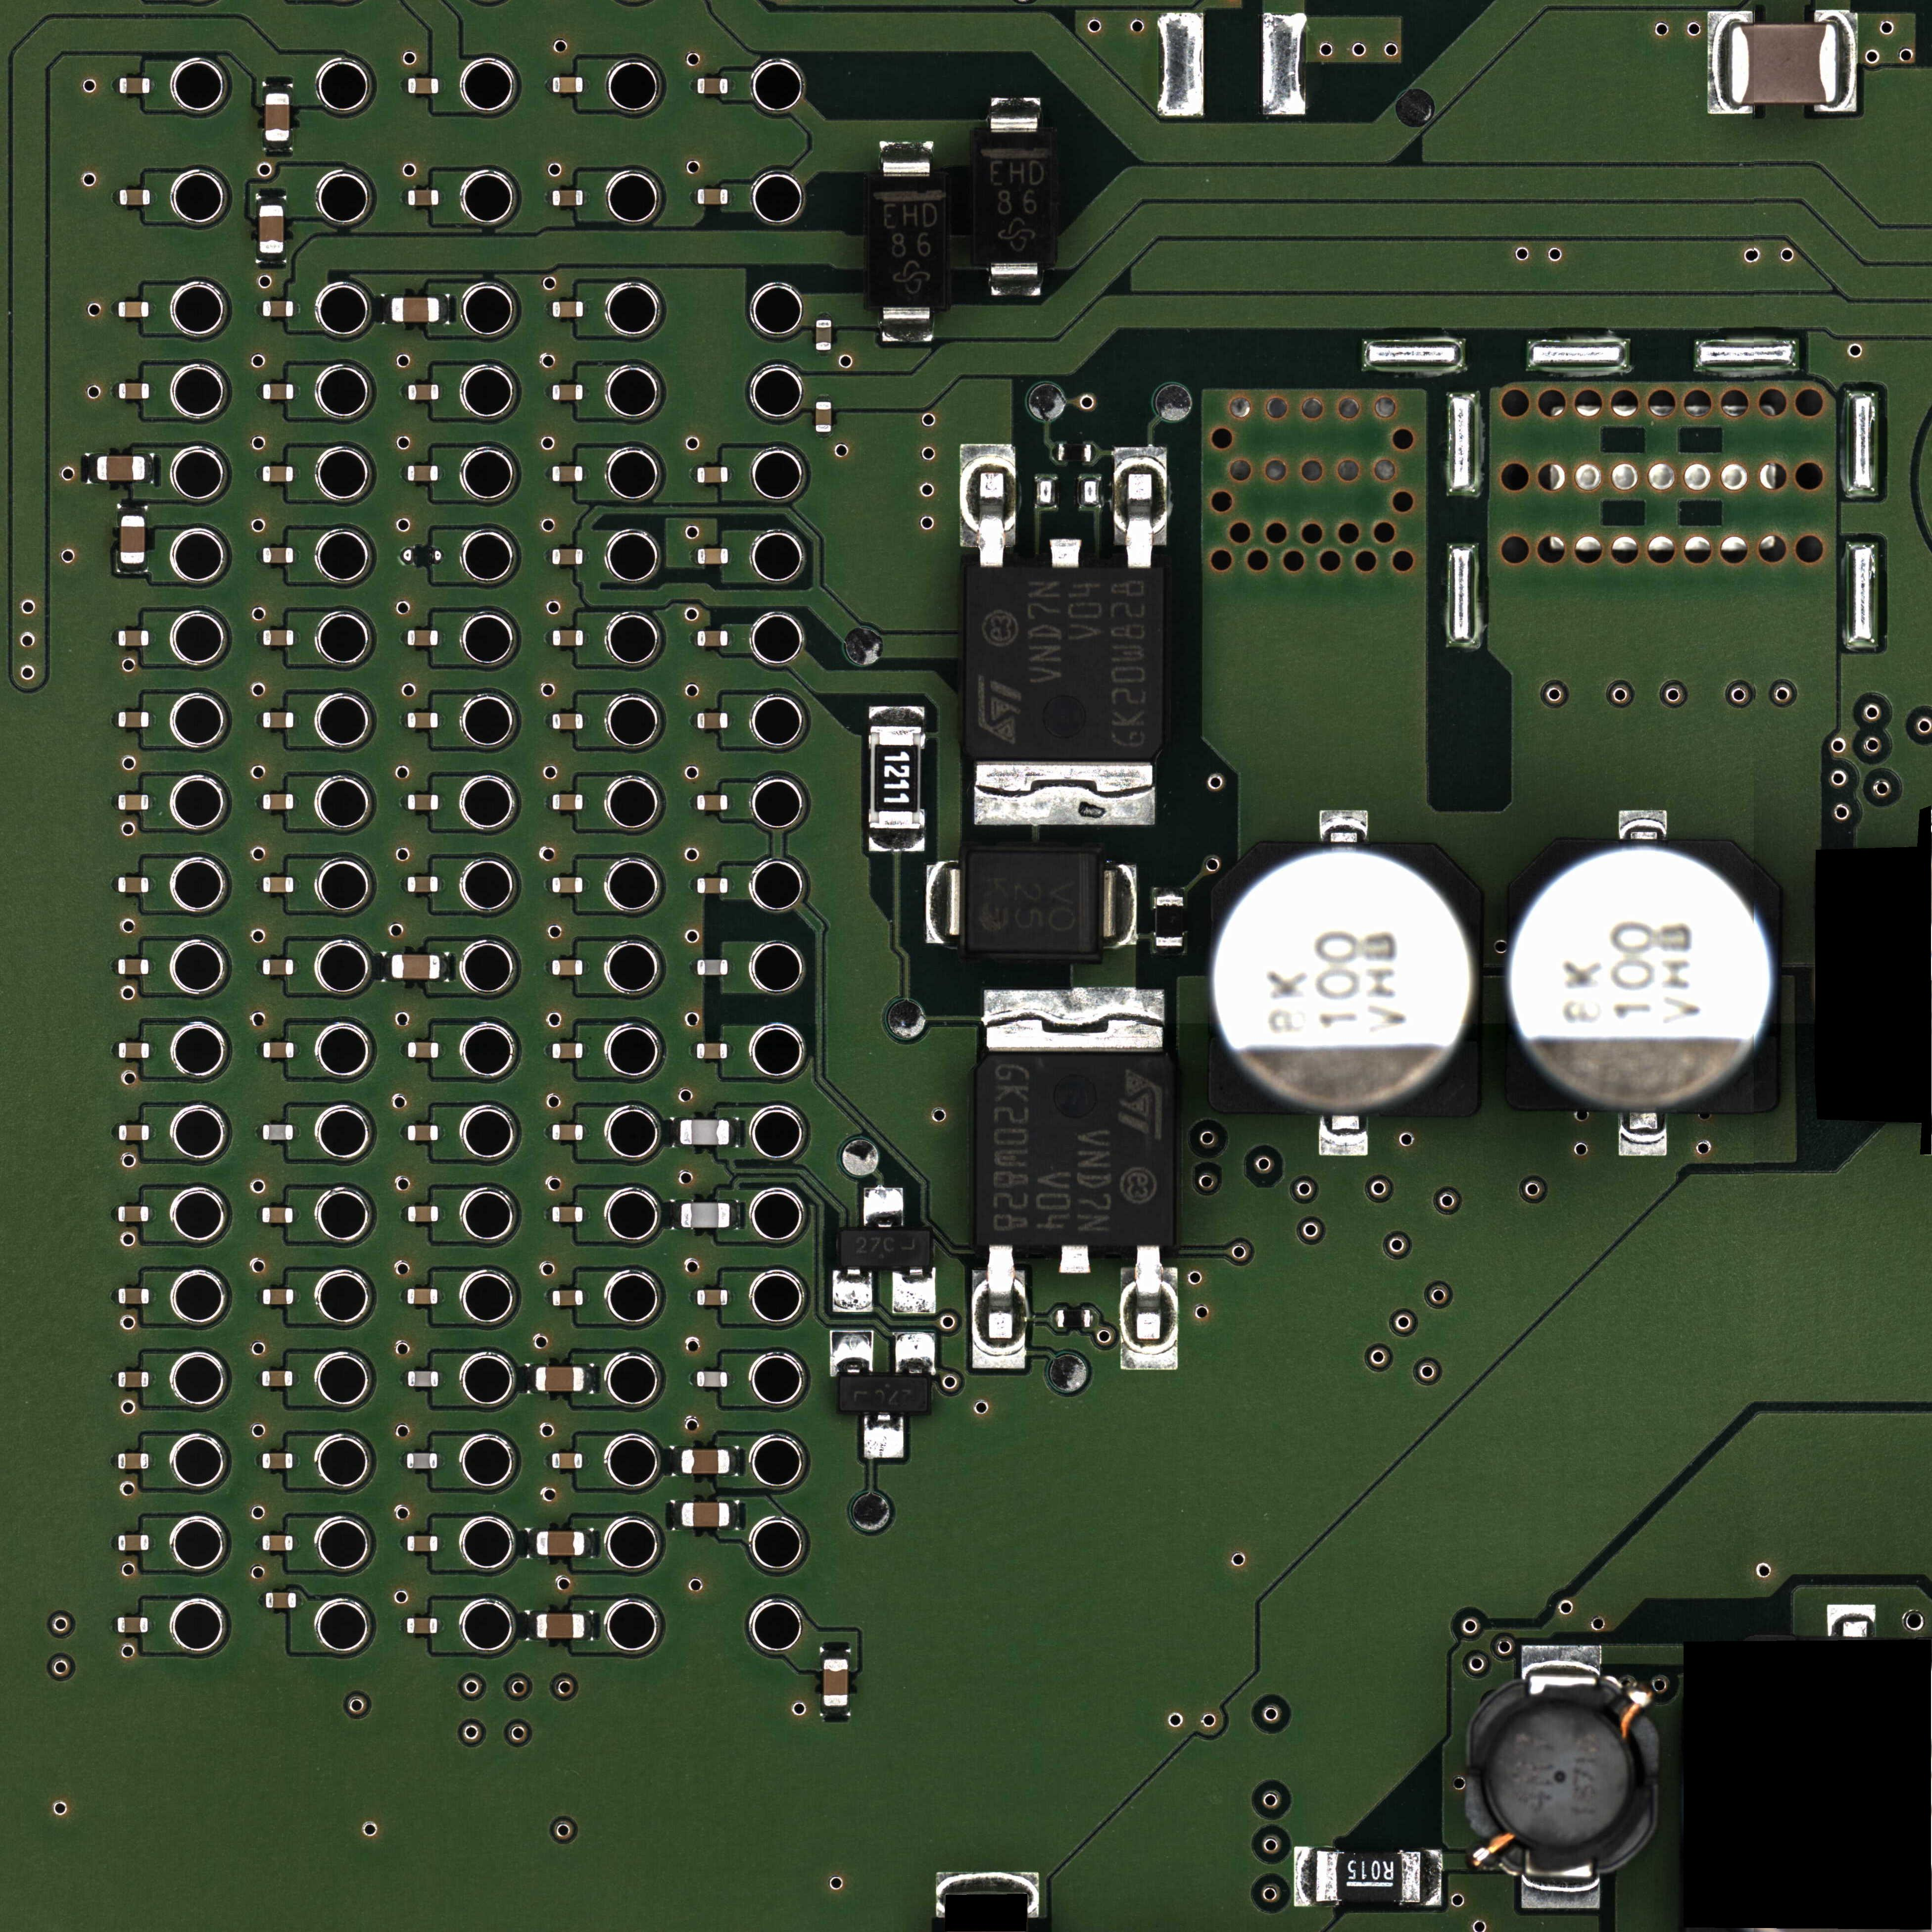Package: (1204, 841, 1482, 1116), (1503, 839, 1781, 1113), (965, 567, 1164, 763), (975, 1049, 1172, 1246), (1468, 1685, 1660, 1867), (967, 850, 1098, 953), (975, 130, 1054, 261), (868, 178, 946, 308), (1732, 24, 1836, 103), (869, 726, 922, 829), (1316, 1852, 1421, 1902), (838, 1227, 932, 1268), (838, 1374, 930, 1413), (1156, 896, 1183, 946), (680, 1119, 729, 1145), (681, 1203, 730, 1228), (97, 456, 145, 481), (536, 1613, 584, 1639), (681, 1449, 729, 1474), (391, 955, 440, 979), (391, 297, 439, 322), (120, 516, 145, 564), (535, 1367, 584, 1391), (681, 1502, 729, 1527), (259, 205, 284, 253), (536, 1531, 584, 1555), (265, 93, 290, 141), (824, 1659, 848, 1706), (1058, 1309, 1090, 1328), (1059, 444, 1091, 462), (262, 466, 293, 482), (552, 1207, 583, 1222), (407, 630, 438, 646), (552, 630, 583, 646), (697, 78, 728, 94), (263, 712, 293, 728), (118, 712, 149, 727), (119, 78, 150, 94), (697, 630, 728, 646), (697, 548, 728, 564), (263, 1042, 294, 1058), (552, 301, 583, 317), (118, 301, 149, 317), (119, 190, 150, 205), (263, 301, 293, 317), (407, 876, 438, 892), (552, 549, 583, 565), (697, 878, 728, 893), (118, 1289, 149, 1304), (118, 384, 149, 399), (118, 1043, 149, 1058), (697, 713, 727, 728), (816, 402, 831, 432), (697, 1290, 727, 1305), (263, 630, 293, 645), (407, 713, 438, 728), (552, 1453, 582, 1468), (407, 1618, 437, 1634), (552, 714, 583, 729), (697, 795, 727, 810), (408, 78, 438, 94), (552, 794, 583, 810), (262, 1371, 292, 1386), (266, 1593, 296, 1608), (118, 1372, 149, 1387), (117, 1617, 148, 1633), (263, 794, 293, 810), (552, 1043, 583, 1059), (697, 960, 728, 975), (697, 189, 728, 204), (552, 1290, 583, 1305), (263, 877, 293, 892), (263, 960, 293, 975), (552, 385, 583, 400), (816, 320, 831, 350), (552, 1125, 583, 1140), (697, 467, 728, 483), (118, 959, 148, 974), (262, 1207, 293, 1223), (408, 190, 438, 205), (408, 1042, 438, 1058), (552, 466, 582, 482), (263, 384, 293, 399), (263, 1289, 293, 1304), (118, 1535, 148, 1550), (407, 1536, 437, 1551), (118, 630, 148, 646), (118, 795, 148, 810), (118, 1453, 148, 1469), (552, 877, 582, 893), (697, 1043, 727, 1059), (118, 877, 148, 893), (697, 1372, 727, 1387), (408, 466, 438, 481), (408, 1371, 438, 1387), (552, 77, 582, 93), (407, 1289, 437, 1304), (119, 1125, 149, 1140), (118, 1207, 148, 1222), (263, 1125, 293, 1140), (408, 1125, 438, 1141), (408, 385, 438, 400), (408, 1207, 438, 1222), (262, 1536, 293, 1550), (407, 1453, 437, 1468), (263, 548, 293, 563), (552, 191, 583, 205), (552, 960, 582, 975), (262, 1453, 292, 1468), (408, 795, 438, 810)
Solder: (974, 764, 1155, 825), (984, 990, 1164, 1049), (1119, 1247, 1178, 1370), (960, 443, 1016, 566), (971, 1247, 1026, 1368), (1113, 446, 1167, 567), (926, 862, 967, 944), (1521, 1644, 1601, 1686), (1521, 1868, 1601, 1909), (1100, 864, 1137, 945), (935, 1872, 1038, 1894), (1708, 11, 1731, 114), (1618, 1112, 1667, 1156), (1837, 12, 1857, 112), (1319, 1115, 1368, 1156), (892, 1268, 935, 1314), (830, 1330, 873, 1374), (864, 1413, 904, 1458), (832, 1269, 872, 1312), (881, 309, 933, 342), (1826, 1604, 1876, 1639), (990, 263, 1041, 296), (880, 141, 933, 173), (895, 1333, 935, 1374), (990, 97, 1041, 128), (864, 1188, 904, 1227), (1319, 810, 1368, 842), (1618, 810, 1667, 839), (1294, 1846, 1315, 1907), (868, 830, 925, 852), (1422, 1849, 1442, 1906), (869, 707, 925, 726), (1050, 538, 1082, 567), (1059, 1246, 1090, 1273), (118, 505, 147, 516), (821, 1648, 850, 1659), (256, 195, 286, 205), (671, 1200, 680, 1229), (671, 1500, 681, 1530), (820, 1707, 851, 1716), (262, 83, 292, 93), (1154, 887, 1184, 896), (440, 294, 449, 324), (527, 1528, 536, 1558), (671, 1447, 680, 1476), (584, 1364, 594, 1393), (1154, 946, 1184, 955), (440, 953, 450, 981), (88, 453, 97, 483), (256, 254, 287, 263), (730, 1117, 739, 1148), (527, 1611, 536, 1641), (671, 1117, 680, 1147), (730, 1500, 739, 1530), (382, 294, 391, 324), (584, 1529, 593, 1558), (382, 952, 391, 981), (117, 564, 147, 573), (145, 453, 154, 483), (264, 142, 292, 150), (585, 1611, 594, 1641), (527, 1364, 535, 1393), (730, 1200, 739, 1229), (730, 1446, 738, 1476), (689, 1289, 697, 1305), (816, 312, 832, 320), (400, 1042, 407, 1058), (400, 794, 407, 810), (255, 794, 263, 810), (400, 384, 408, 400), (399, 1452, 407, 1469), (544, 1043, 552, 1059), (544, 1452, 552, 1469), (728, 713, 735, 729), (111, 1288, 118, 1305), (400, 1125, 407, 1141), (816, 394, 831, 402), (689, 1371, 697, 1387), (816, 351, 831, 359), (258, 1592, 265, 1609), (545, 1124, 552, 1141), (545, 629, 552, 646), (545, 959, 552, 976), (150, 1288, 157, 1304), (728, 630, 735, 647), (689, 467, 696, 483), (728, 466, 735, 483), (256, 1042, 263, 1058), (256, 384, 263, 400), (256, 712, 263, 728), (400, 629, 407, 646), (400, 1617, 407, 1634), (400, 1535, 407, 1551), (401, 77, 408, 94), (400, 1370, 407, 1387), (545, 1290, 552, 1306), (400, 465, 407, 482), (545, 1206, 552, 1222), (545, 713, 552, 729), (583, 1124, 590, 1141), (545, 548, 552, 565), (545, 384, 552, 400), (437, 1452, 444, 1469), (545, 77, 552, 93), (583, 1206, 590, 1222), (111, 1453, 118, 1469), (690, 713, 697, 729), (148, 959, 155, 975), (149, 1453, 156, 1470), (728, 548, 735, 565), (689, 548, 696, 564), (1052, 444, 1058, 461), (112, 77, 119, 94), (150, 77, 157, 94), (400, 876, 407, 892), (400, 1289, 407, 1304), (727, 1371, 734, 1387), (255, 1124, 262, 1140), (256, 876, 263, 892), (438, 1042, 445, 1058), (256, 547, 263, 563), (582, 1453, 589, 1469), (545, 466, 552, 482), (438, 1206, 445, 1222), (438, 465, 445, 481), (438, 1371, 445, 1387), (690, 630, 697, 646), (256, 959, 262, 975), (256, 1288, 262, 1305), (438, 77, 445, 94), (294, 711, 300, 728), (113, 189, 119, 205), (545, 301, 552, 318), (437, 1617, 444, 1634), (112, 1124, 118, 1141), (545, 794, 552, 811), (294, 629, 300, 646), (149, 1124, 156, 1141), (150, 1371, 156, 1388), (112, 300, 118, 318), (816, 433, 832, 439), (256, 629, 263, 646), (256, 301, 262, 317), (401, 1206, 407, 1222), (401, 189, 408, 205), (294, 1042, 300, 1058), (112, 1535, 118, 1551), (256, 1452, 262, 1469), (112, 1206, 118, 1222), (112, 876, 118, 893), (293, 1452, 299, 1469), (438, 794, 445, 810), (583, 794, 589, 810), (583, 629, 590, 646), (438, 629, 445, 646), (111, 959, 118, 975), (438, 1535, 444, 1551), (149, 876, 156, 893), (149, 1206, 155, 1222), (111, 1617, 117, 1633), (148, 1617, 155, 1633), (689, 794, 695, 811), (1091, 444, 1097, 462), (112, 382, 118, 399), (401, 712, 407, 728), (438, 876, 444, 892), (583, 960, 589, 975), (256, 1535, 262, 1551), (583, 877, 589, 893), (438, 712, 445, 728), (438, 1125, 445, 1141), (293, 959, 300, 975), (545, 877, 552, 893), (583, 1043, 589, 1059), (293, 1124, 300, 1140), (296, 1593, 303, 1608), (727, 1043, 734, 1059), (438, 1289, 444, 1304), (583, 713, 589, 729), (583, 1290, 589, 1305), (583, 77, 589, 93), (293, 547, 300, 563), (293, 1370, 299, 1386), (149, 1535, 156, 1550), (690, 1043, 696, 1059), (690, 960, 696, 975), (729, 960, 736, 975), (728, 877, 734, 893), (690, 877, 696, 893), (728, 795, 734, 811), (583, 189, 589, 206), (112, 1371, 118, 1388), (1090, 1310, 1096, 1327), (293, 1534, 299, 1551), (546, 190, 552, 206), (149, 383, 155, 399), (584, 301, 590, 318), (690, 78, 696, 95), (256, 466, 262, 482), (294, 793, 300, 810), (256, 1207, 262, 1223), (294, 384, 300, 400), (293, 466, 299, 482), (293, 300, 299, 317), (583, 384, 589, 400), (150, 189, 156, 205), (728, 1289, 734, 1305), (111, 711, 117, 727), (150, 1043, 156, 1060), (1052, 1310, 1058, 1327), (149, 301, 155, 318), (255, 1371, 261, 1387), (294, 876, 300, 892), (438, 384, 444, 400), (294, 1289, 300, 1304), (293, 1207, 299, 1223), (112, 794, 118, 810), (583, 548, 589, 564), (149, 794, 155, 810), (149, 713, 155, 728), (111, 630, 117, 646), (149, 630, 155, 646), (728, 78, 734, 95), (439, 189, 444, 205), (690, 189, 696, 205), (728, 189, 734, 205), (113, 1042, 118, 1058), (583, 466, 588, 482)
